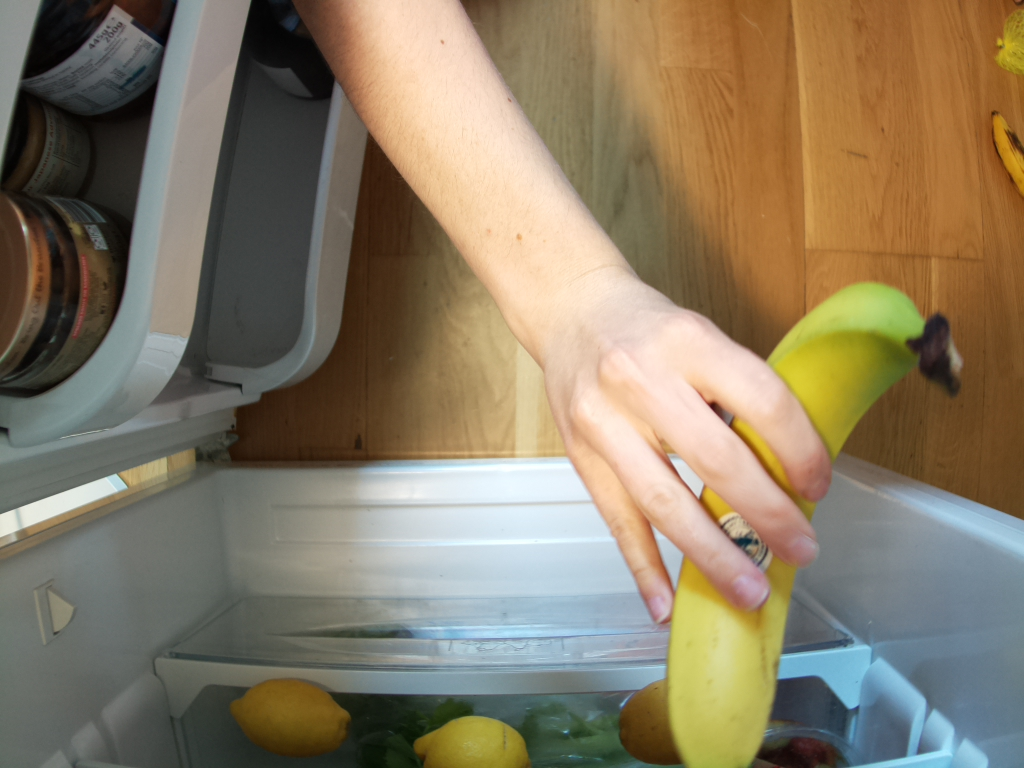banana-unripe: (666, 277, 973, 768)
